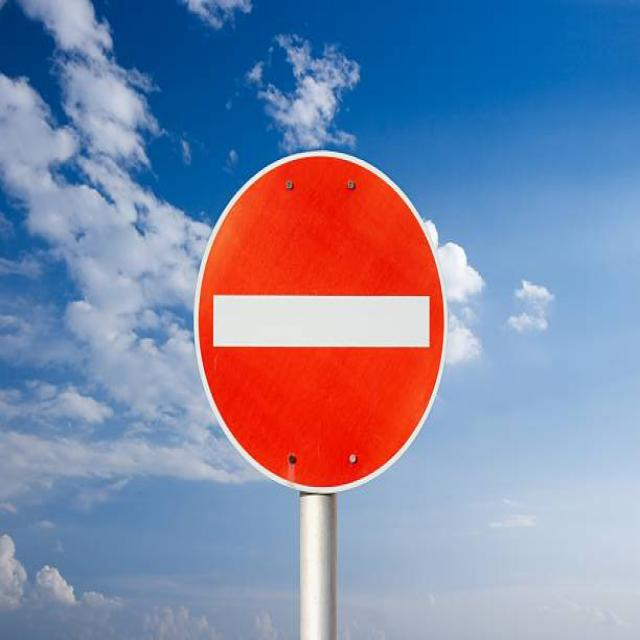do_not_enter: (192, 145, 450, 498)
